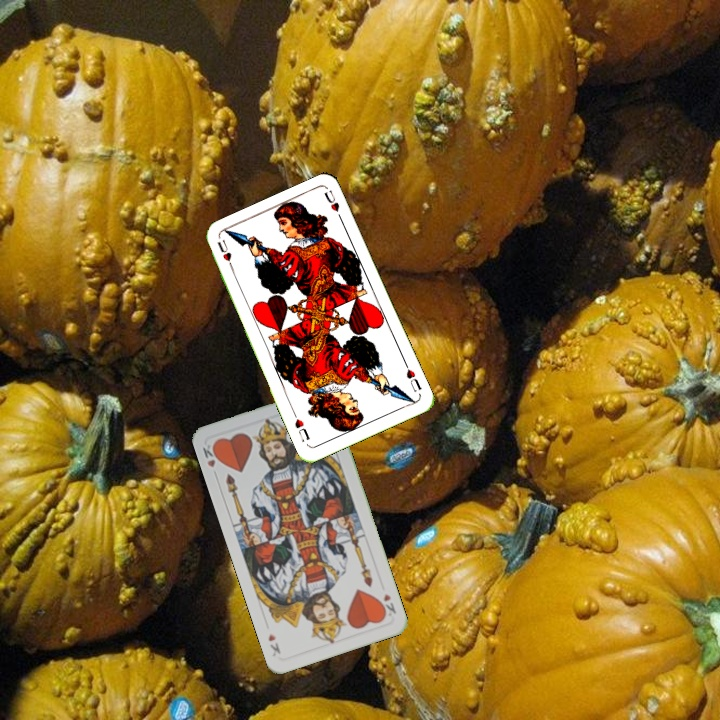HK: (198, 440, 223, 480), (375, 589, 399, 621)
HU: (213, 235, 237, 274), (400, 359, 424, 395)
